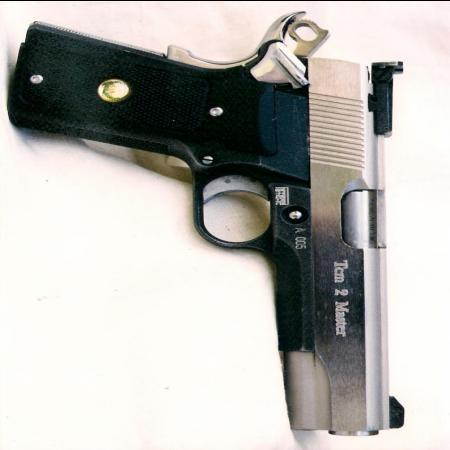Pistol: (10, 9, 409, 436)
